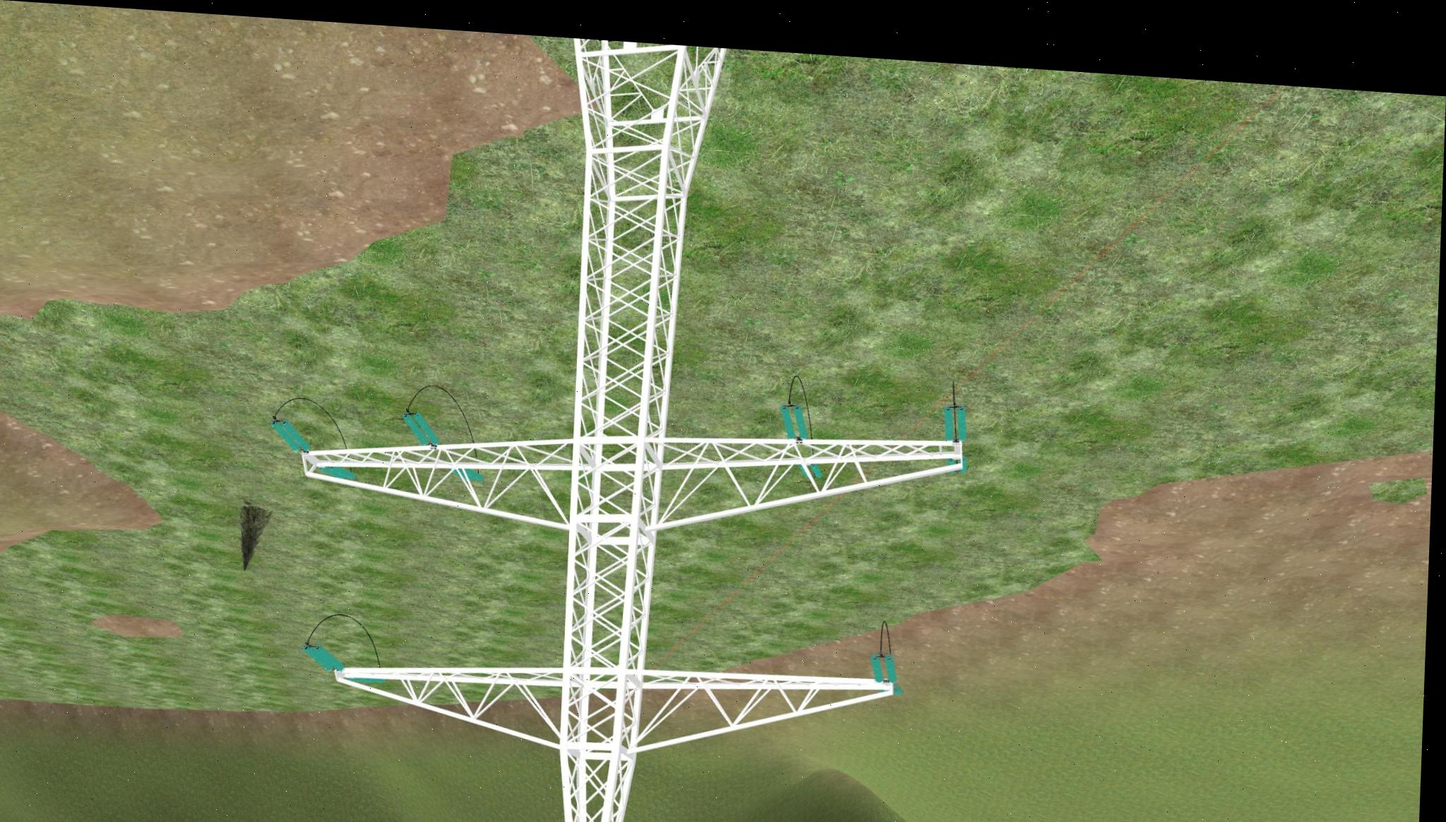tower: (277, 20, 986, 822)
